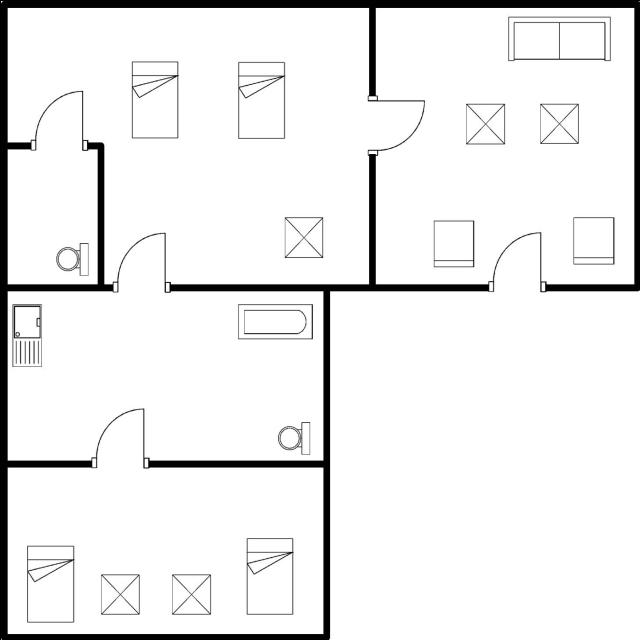bed: (240, 530, 298, 618), (22, 539, 80, 625), (232, 55, 288, 144), (127, 57, 183, 143)
coffee_table: (535, 98, 584, 148), (168, 568, 215, 620), (94, 567, 140, 619), (280, 211, 326, 263), (462, 98, 508, 147)
large_sink: (273, 414, 313, 458), (52, 236, 92, 280)
large_sofa: (504, 11, 615, 66)
sink: (8, 300, 46, 372)
small_sofa: (568, 212, 618, 270), (428, 213, 476, 270)
tub: (235, 297, 316, 343)
